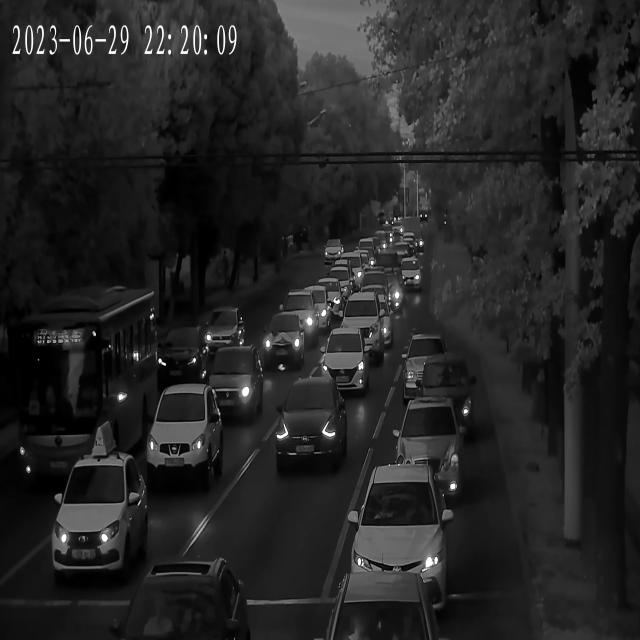Bus: (20, 286, 160, 490)
Car: (340, 464, 458, 602), (53, 452, 149, 588), (123, 567, 251, 640), (144, 383, 224, 489), (329, 569, 448, 640), (392, 397, 467, 505), (275, 379, 346, 468), (402, 352, 475, 438), (196, 342, 264, 420), (330, 294, 386, 366), (314, 330, 370, 397), (401, 334, 456, 392), (159, 328, 211, 384), (263, 316, 308, 370), (272, 293, 322, 341), (200, 310, 248, 358), (356, 271, 404, 317), (287, 286, 335, 325), (302, 279, 343, 315), (335, 253, 368, 283), (325, 267, 358, 295), (393, 260, 421, 292), (353, 237, 381, 262), (325, 239, 348, 261), (391, 244, 412, 262), (400, 236, 420, 254), (371, 233, 390, 251)
